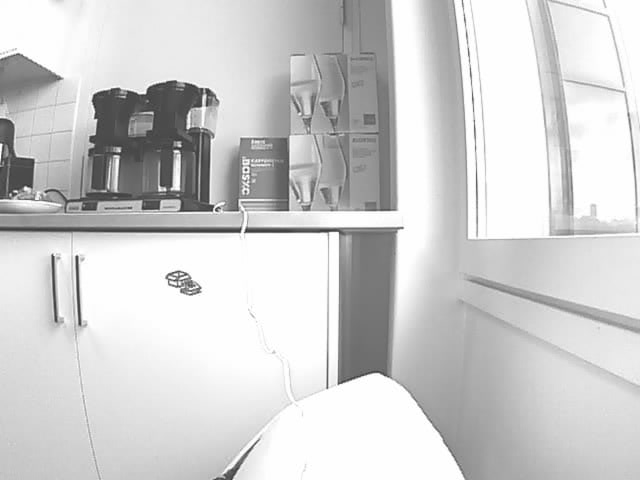empty coffee: (81, 144, 139, 199)
